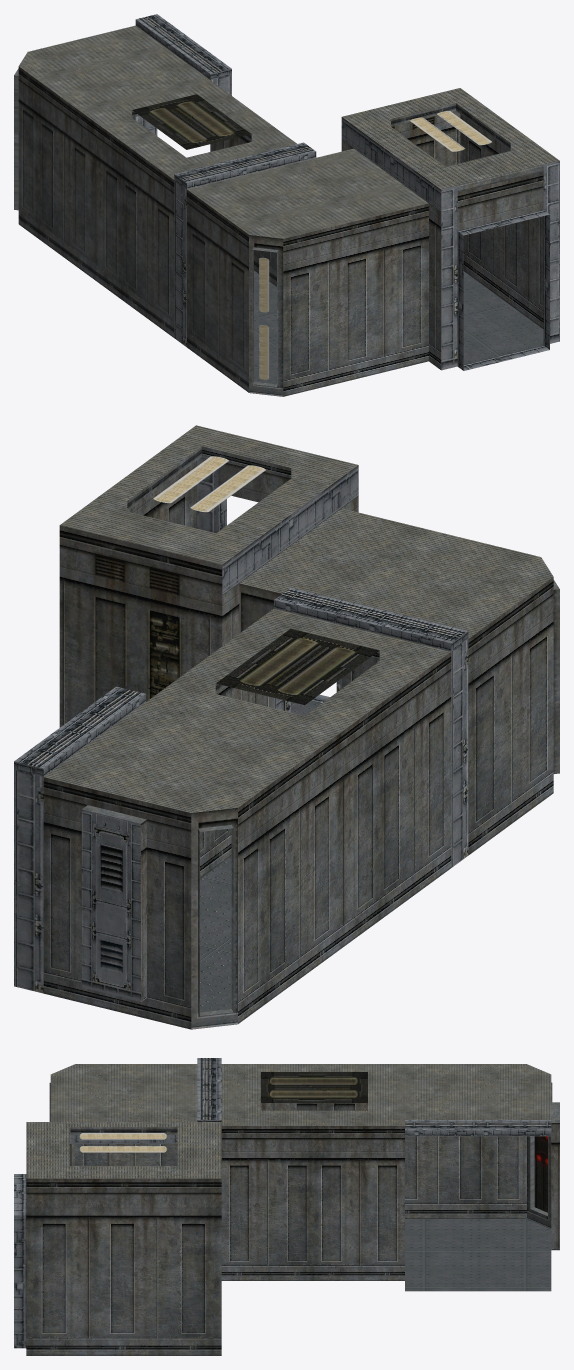
File: poi_all_impl_bunker_abandoned_s01_r2_hall1_mesh_r2.fbx
The picture shows the model from 3 angles, top to bottom: view 1: azimuth 30°, elevation 25°; view 2: azimuth 150°, elevation 25°; view 3: azimuth 270°, elevation 25°; orthographic projection. The views are drawn at different scales.
Visible parts, largest first — view 1: mesh_node; view 2: mesh_node; view 3: mesh_node.
Part boxes in pixels (<box>): mesh_node: <box>14,14,559,396</box>; mesh_node: <box>14,425,559,1029</box>; mesh_node: <box>14,1058,559,1355</box>.
Size of the model in its own units: 6.64 by 4.17 by 11.18.
